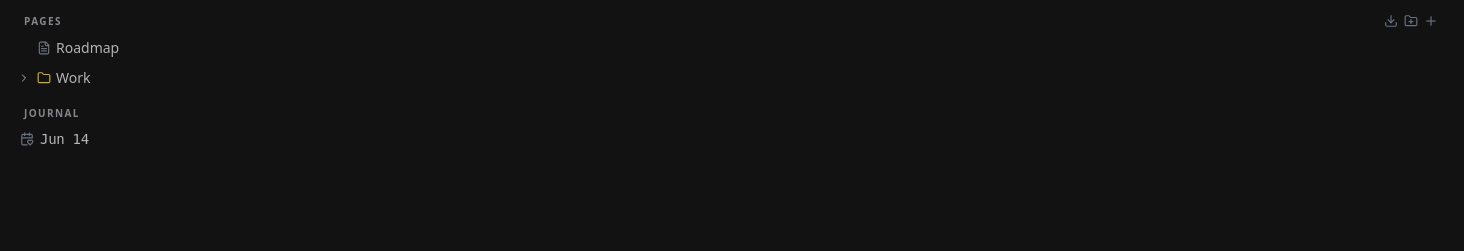
Test: VaultTree - right-click menu › offers a folder row the create-inside actions a page row has no use for
The width and height of the screenshot is (1464, 251).
Right-click the text "Work": (53, 78) [16,68,90,87]
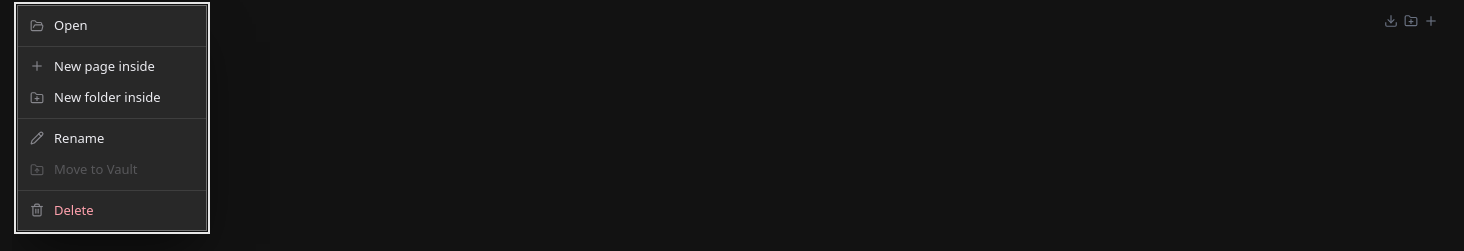
expect the menu items read "Open", "New page inside", "New folder inside", "Rename", "Move to Vault", "Delete", in this order: met, box [18,10,206,42]; [18,50,206,82]; [18,82,206,114]; [18,122,206,154]; [18,154,206,186]; [18,194,206,226]
